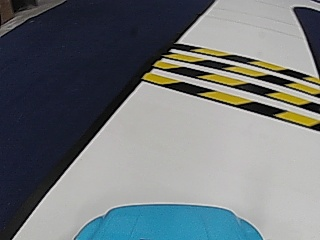bump: (171, 47, 308, 121)
